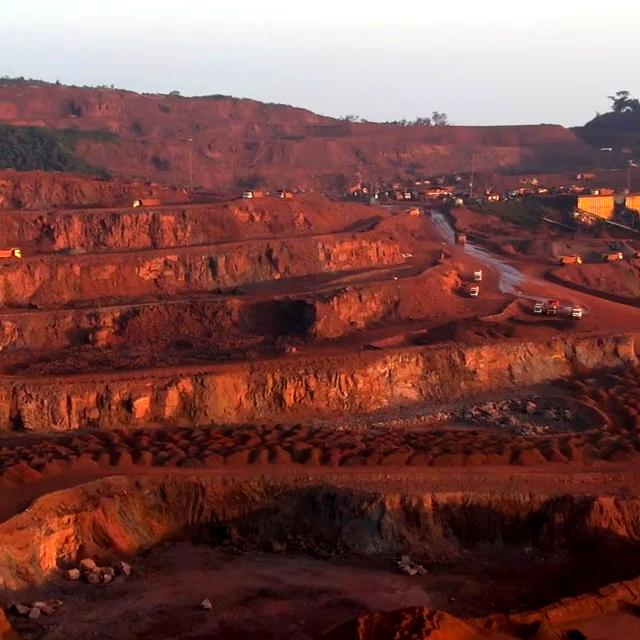Dumper truck: (0, 246, 20, 258), (134, 199, 159, 207), (244, 190, 264, 199), (604, 252, 623, 261), (634, 248, 640, 258)
car: (534, 300, 543, 315), (472, 271, 484, 282), (469, 283, 479, 296)
